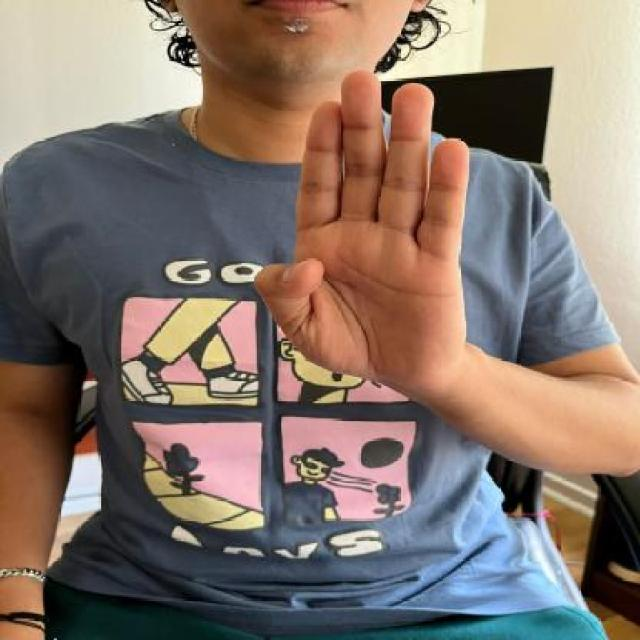B: (258, 68, 479, 388)
